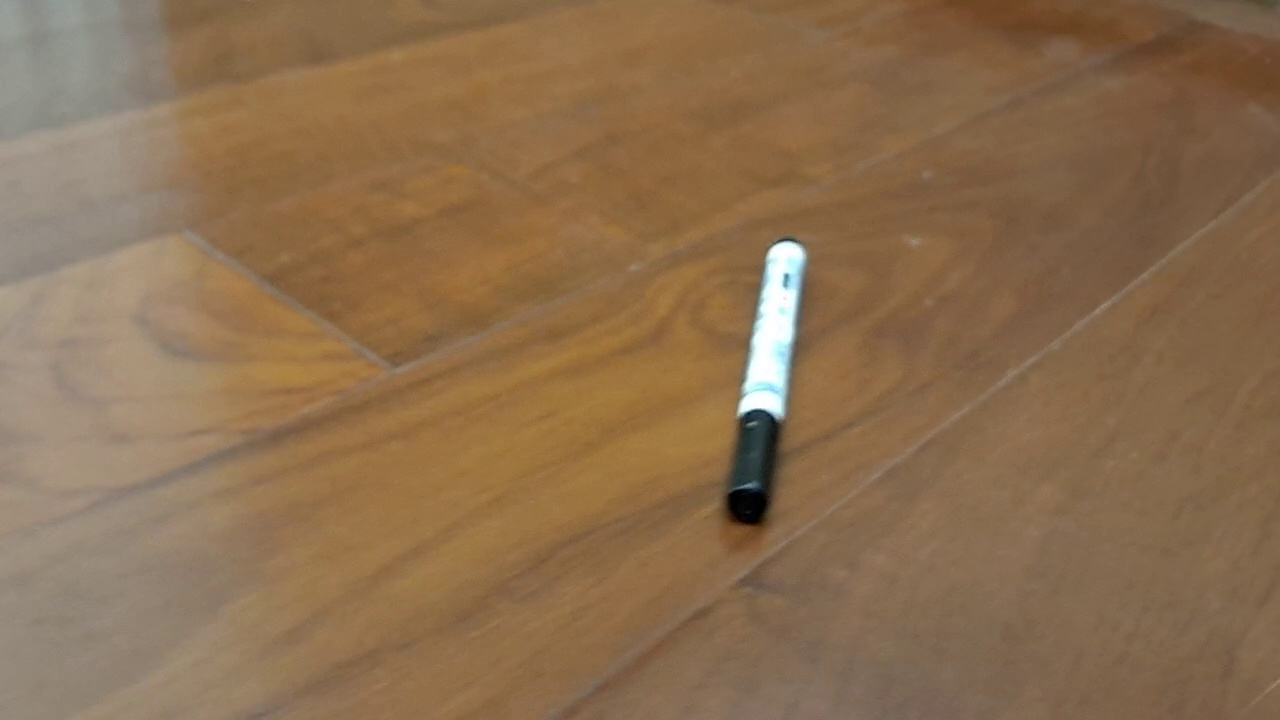pen: (727, 237, 809, 526)
